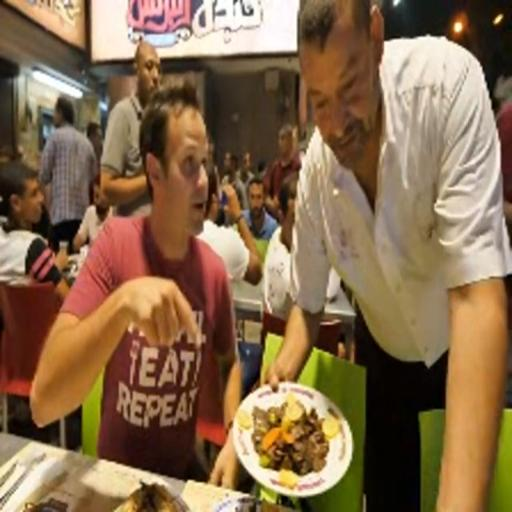nao-violencia: (20, 0, 510, 458)
